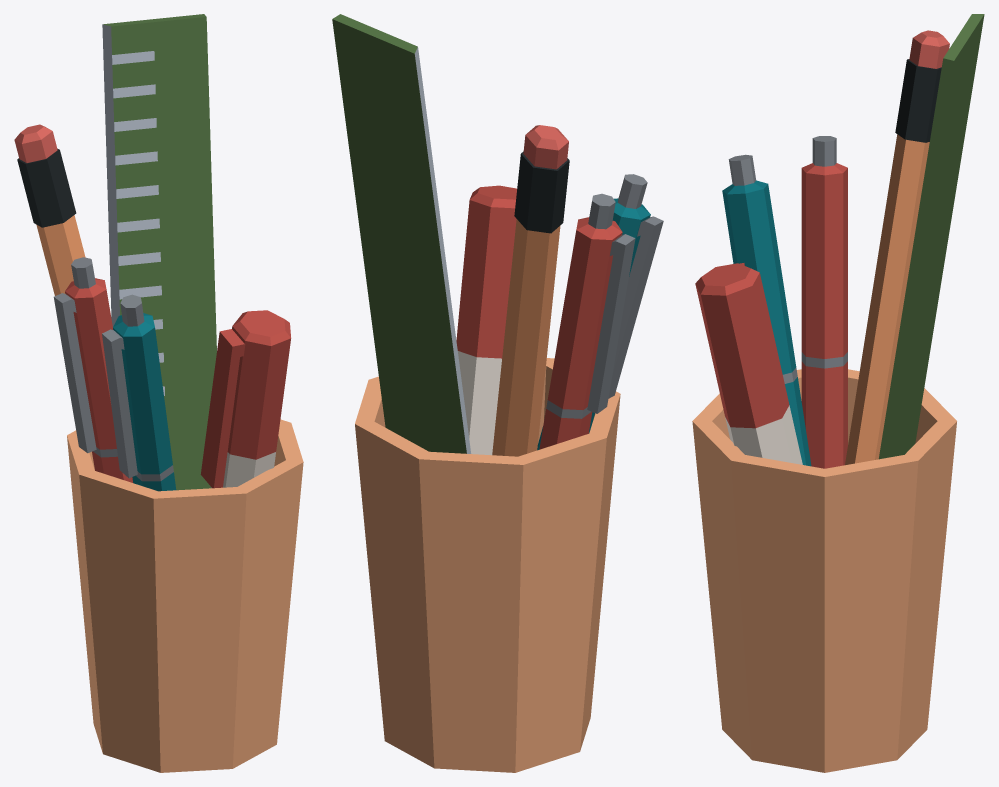
The model's file is deskorganizer.fbx.
3 renders of one model, left to right at view 1: azimuth 30°, elevation 25°; view 2: azimuth 150°, elevation 25°; view 3: azimuth 270°, elevation 25°, orthographic. The views are drawn at different scales.
Visible parts, largest first — view 1: DeskOrganizer_02; view 2: DeskOrganizer_02; view 3: DeskOrganizer_02.
Boxes of the visible parts, <box> form: DeskOrganizer_02: <box>14,14,303,772</box>; DeskOrganizer_02: <box>332,14,663,772</box>; DeskOrganizer_02: <box>692,14,984,772</box>.
Size of the model in its own units: 7.7 by 20.78 by 7.72.
